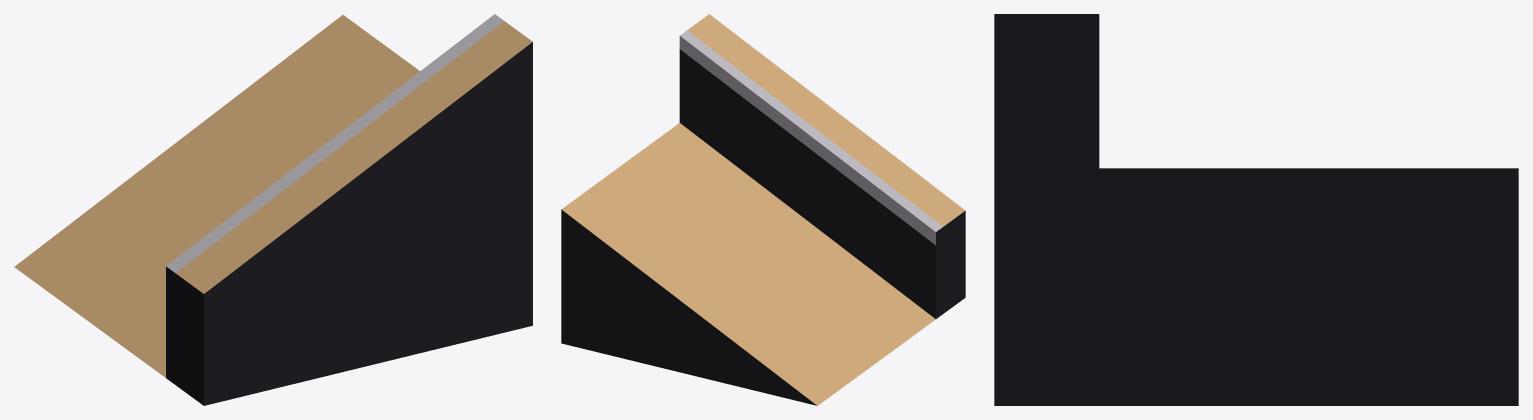
Rendered from Ledge_Ramp_SML_R.fbx.
The picture shows the model from 3 angles, left to right: view 1: azimuth 30°, elevation 25°; view 2: azimuth 150°, elevation 25°; view 3: azimuth 270°, elevation 25°; orthographic projection. The views are drawn at different scales.
Parts seen in each view (by area): view 1: Ledge_Ramp_SML_R; view 2: Ledge_Ramp_SML_R; view 3: Ledge_Ramp_SML_R.
Boxes of the visible parts, x1,y1,x2,y2 form: Ledge_Ramp_SML_R: (14, 14, 532, 405); Ledge_Ramp_SML_R: (561, 14, 965, 405); Ledge_Ramp_SML_R: (994, 14, 1518, 405).
Size of the model in its own units: 10 by 8.25 by 10.
